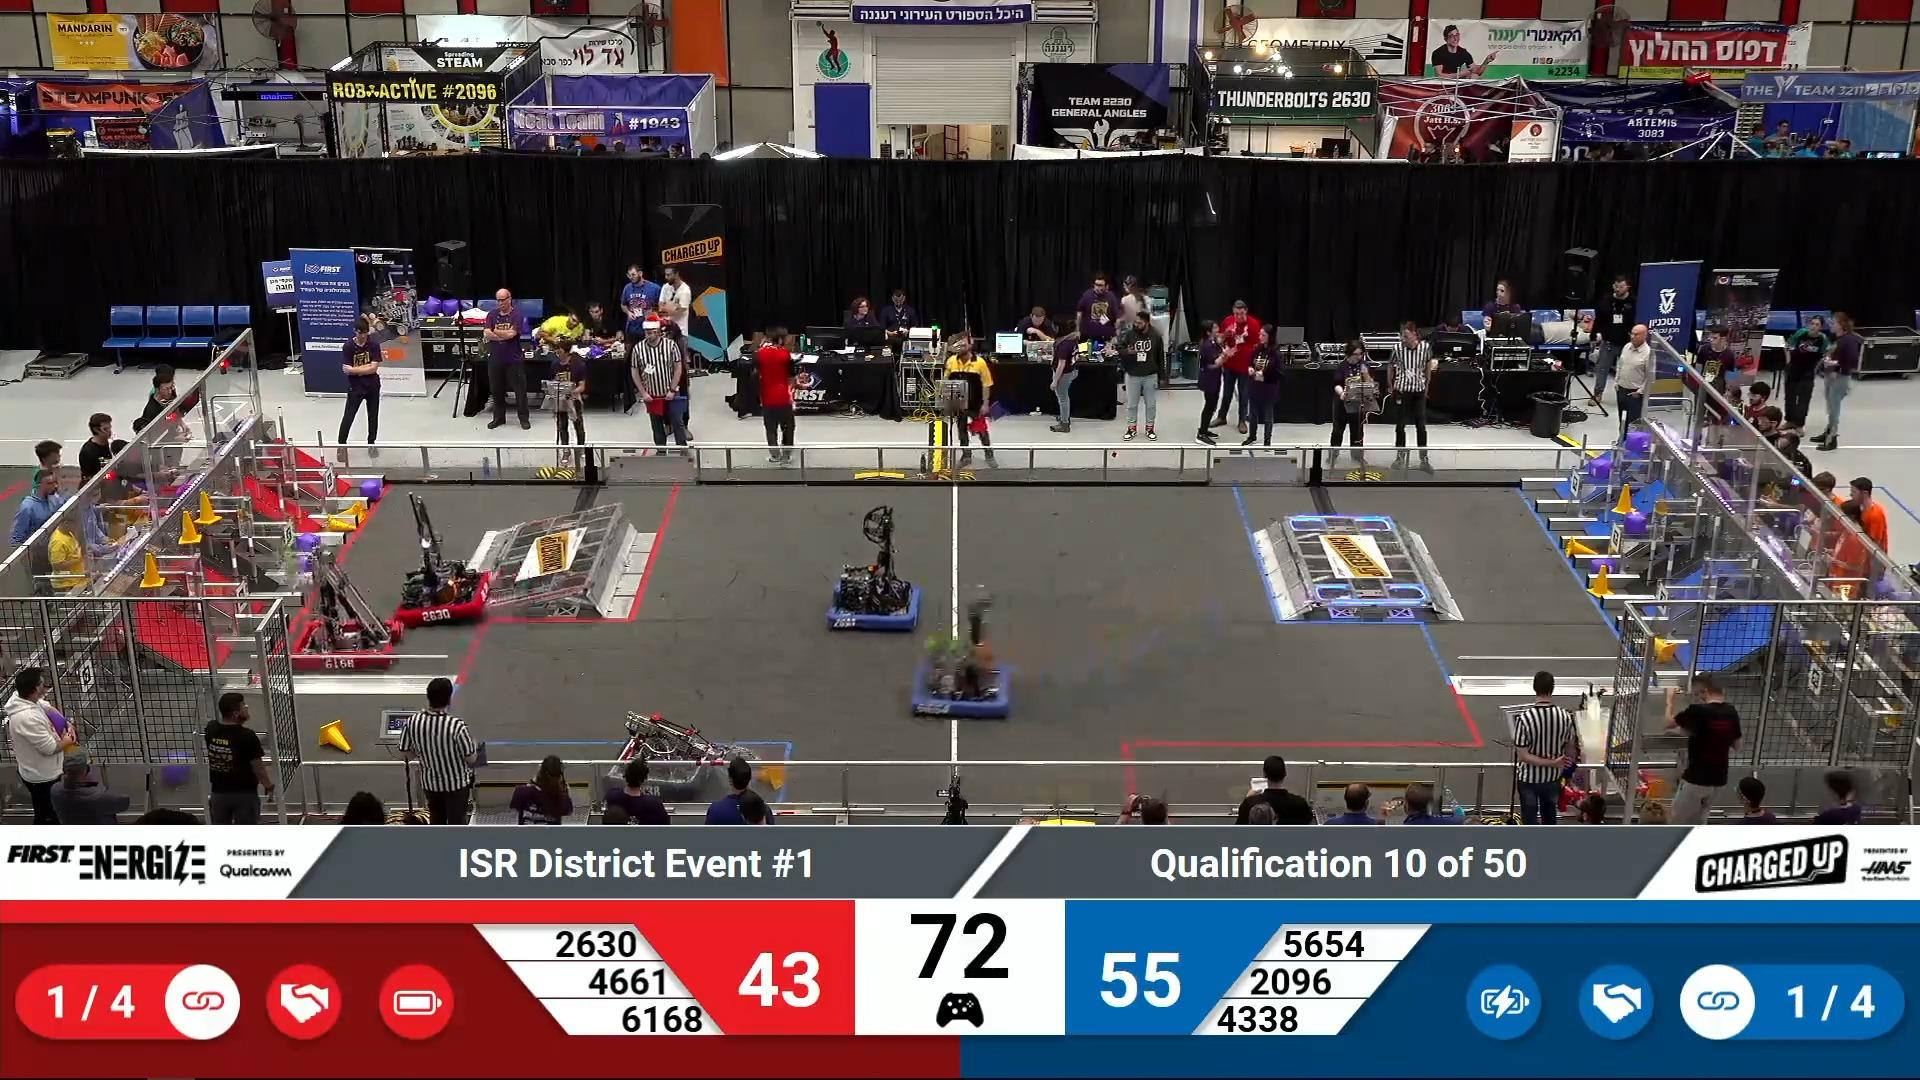robot: (596, 699, 709, 802), (903, 638, 1015, 731), (819, 546, 927, 640), (287, 589, 401, 675), (392, 549, 497, 630)
